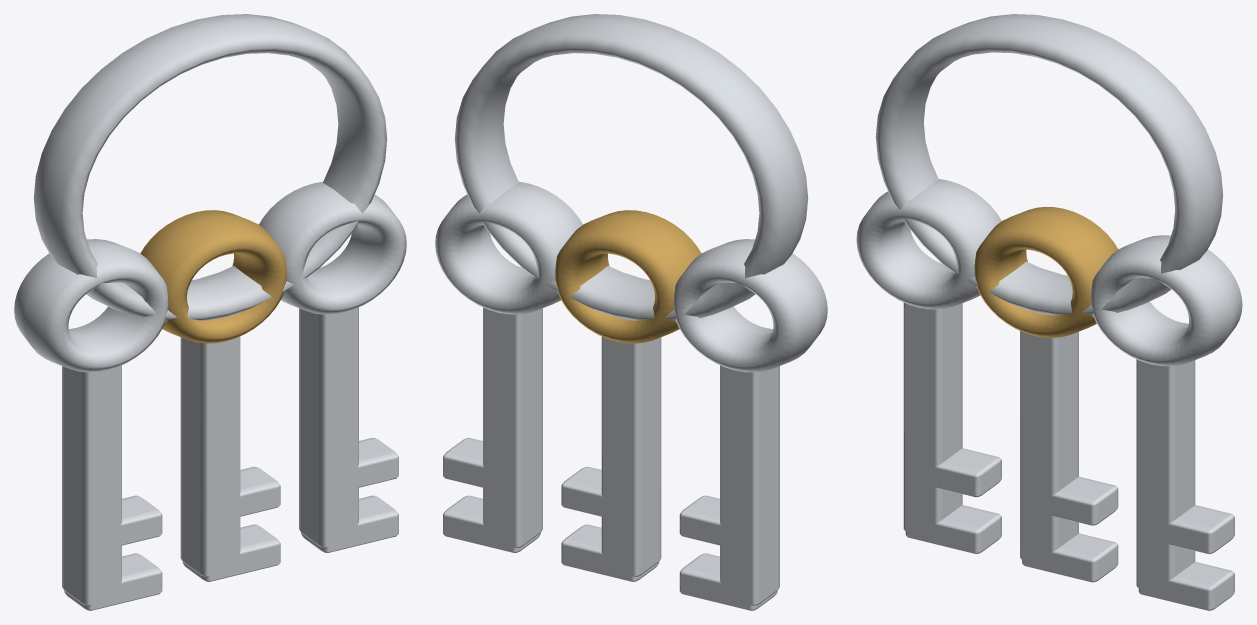
Rendered from wp-trousseau-de-cles.glb.
The picture shows the model from 3 angles, left to right: view 1: azimuth 30°, elevation 25°; view 2: azimuth 150°, elevation 25°; view 3: azimuth 330°, elevation 25°; orthographic projection.
Visible parts, largest first — view 1: wp-trousseau-de-cles; view 2: wp-trousseau-de-cles; view 3: wp-trousseau-de-cles.
Boxes of the visible parts, x1,y1,x2,y2 form: wp-trousseau-de-cles: (14,14,406,610); wp-trousseau-de-cles: (435,14,827,610); wp-trousseau-de-cles: (856,14,1242,610).
Bounding box in the file's own units: 0.1 × 0.14 × 0.02.
